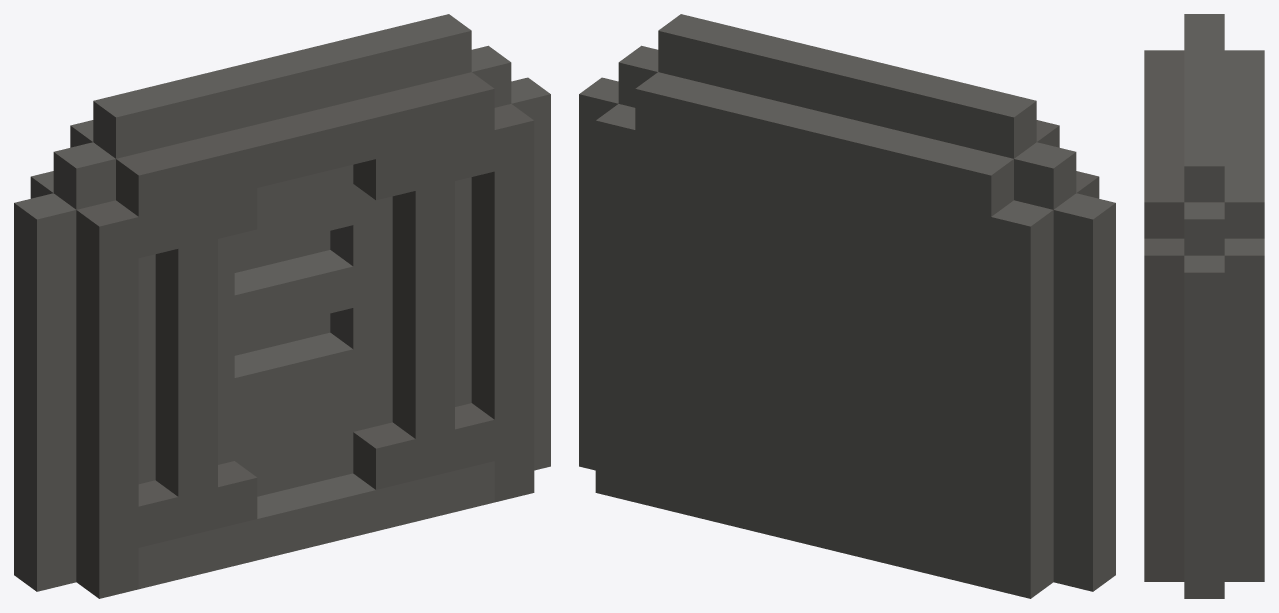
The model's file is church-58-gy_tombstone1.obj.
The picture shows the model from 3 angles, left to right: view 1: azimuth 30°, elevation 25°; view 2: azimuth 150°, elevation 25°; view 3: azimuth 270°, elevation 25°; orthographic projection. The views are drawn at different scales.
Parts seen in each view (by area): view 1: gy_tombstone1; view 2: gy_tombstone1; view 3: gy_tombstone1.
Boxes of the visible parts, x1,y1,x2,y2 form: gy_tombstone1: [14, 14, 550, 598]; gy_tombstone1: [579, 14, 1115, 598]; gy_tombstone1: [1144, 14, 1264, 598].
Size of the model in its own units: 1.3 by 1.1 by 0.3.
1 material, 1 textured.
